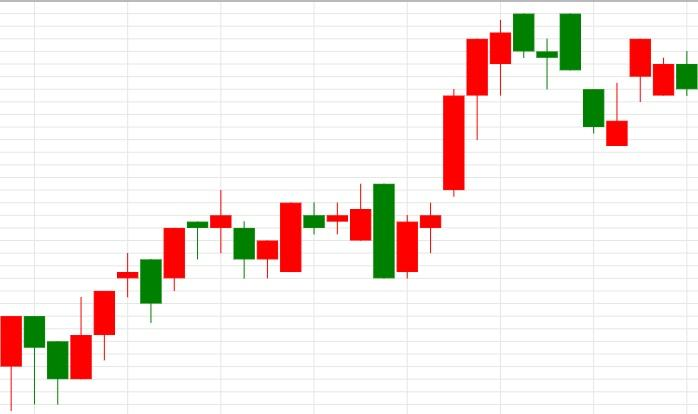inverse_hammer_rise: (514, 14, 628, 146)
